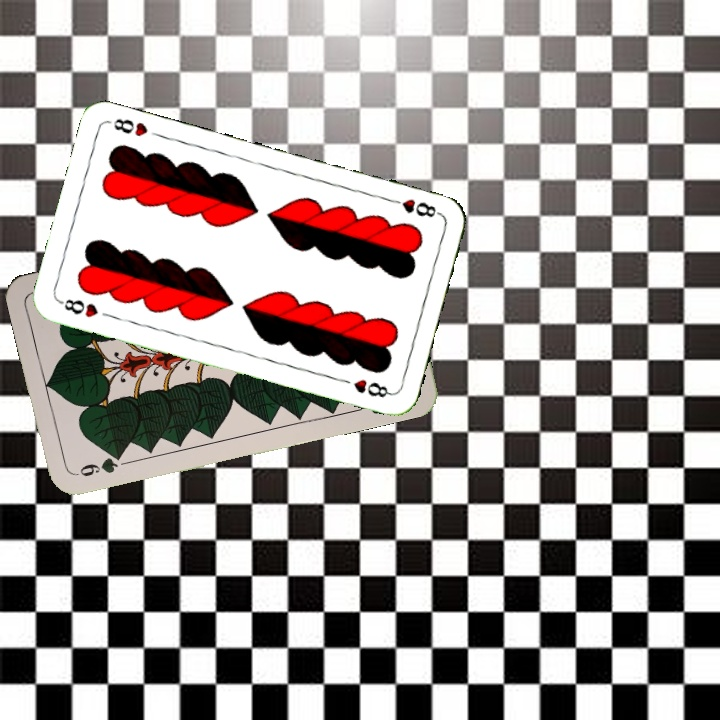G9: (71, 450, 126, 479)
H8: (385, 194, 443, 220), (56, 295, 101, 320)
